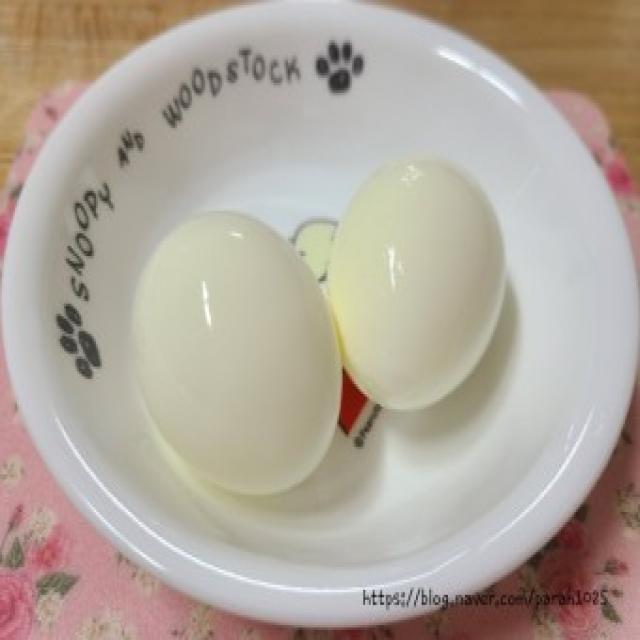eggs: (126, 203, 344, 503), (319, 156, 511, 412)
